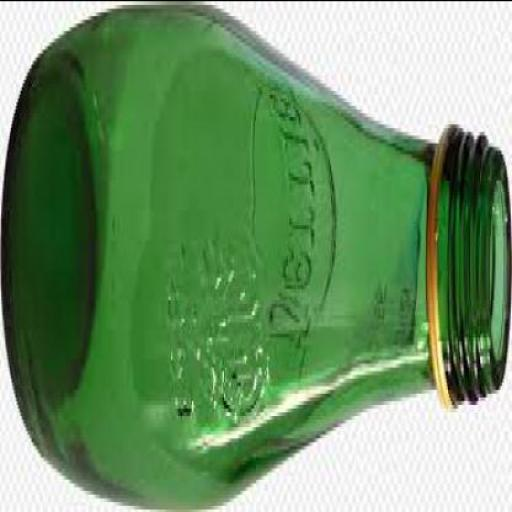glass: (1, 2, 511, 508)
